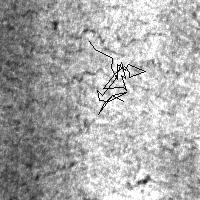crazing: (12, 5, 177, 56), (3, 95, 88, 182), (1, 48, 131, 94), (89, 41, 145, 114)
